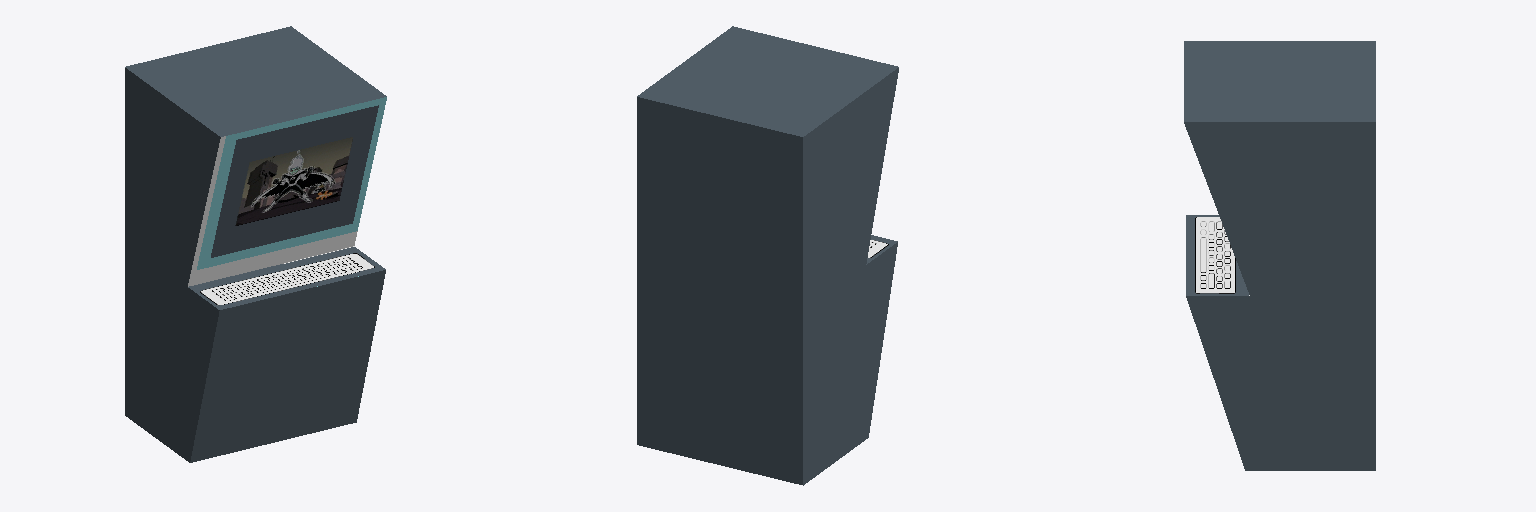
3 renders of one model, left to right at view 1: azimuth 30°, elevation 25°; view 2: azimuth 150°, elevation 25°; view 3: azimuth 270°, elevation 25°, orthographic.
Parts seen in each view (by area): view 1: pCube13; view 2: pCube13; view 3: pCube13.
Boxes of the visible parts, x1,y1,x2,y2 form: pCube13: [125, 26, 386, 462]; pCube13: [637, 26, 898, 485]; pCube13: [1184, 41, 1375, 470].
Bounding box in the file's own units: 2 × 4 × 2.
Materials: 1 (1 with a texture image).